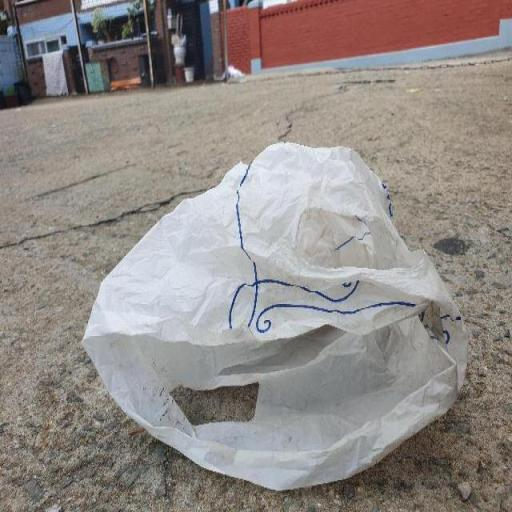plastic-bag: (80, 139, 473, 493)
